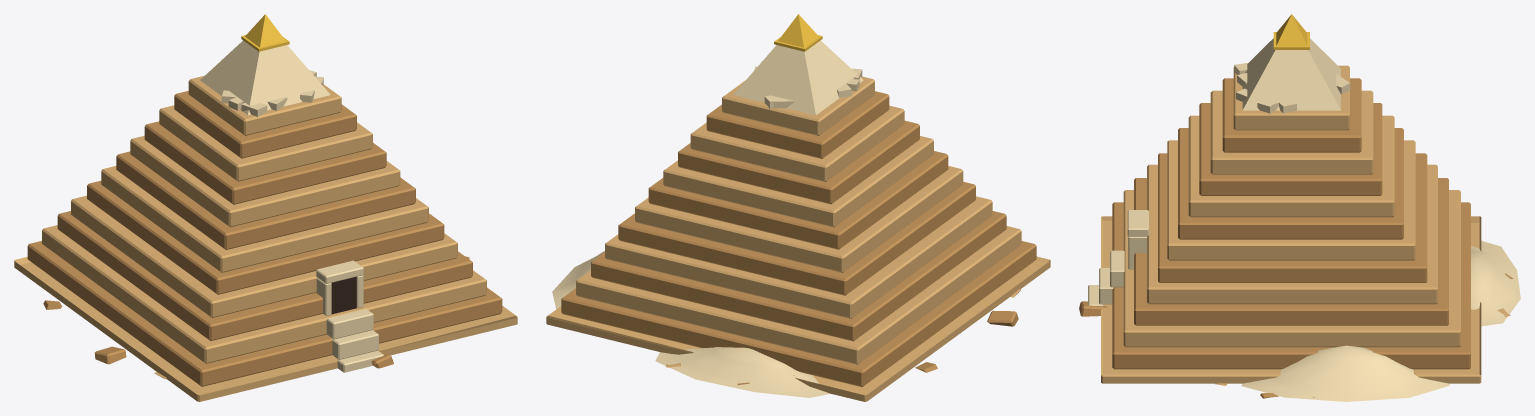
Rendered from pyramid_small.glb.
3 renders of one model, left to right at view 1: azimuth 30°, elevation 25°; view 2: azimuth 150°, elevation 25°; view 3: azimuth 270°, elevation 25°, orthographic. The views are drawn at different scales.
Visible parts, largest first — view 1: pyramid_small; view 2: pyramid_small; view 3: pyramid_small.
Boxes of the visible parts, box(x1,y1,x2,y2) form: pyramid_small: box(14, 14, 517, 401); pyramid_small: box(546, 14, 1050, 401); pyramid_small: box(1079, 14, 1520, 401).
Bounding box in the file's own units: 15.22 × 10.5 × 14.53.
